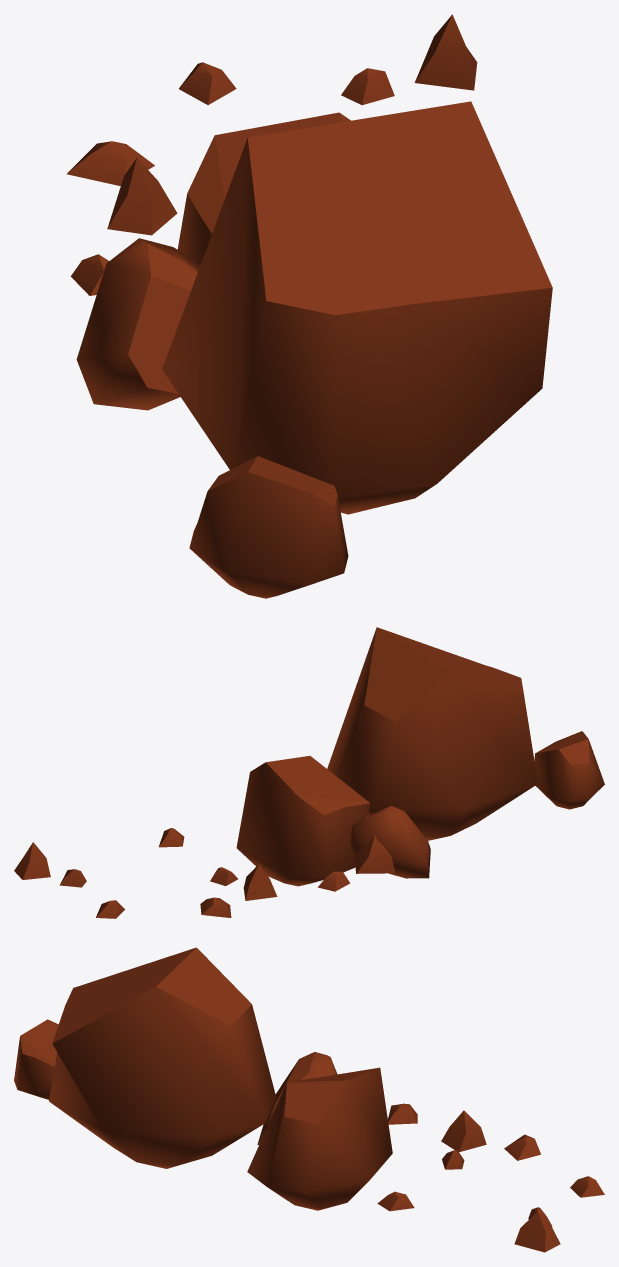
File: Rocks02.FBX
The picture shows the model from 3 angles, top to bottom: view 1: azimuth 30°, elevation 25°; view 2: azimuth 150°, elevation 25°; view 3: azimuth 270°, elevation 25°; orthographic projection. The views are drawn at different scales.
Visible parts, largest first — view 1: Sphere007, Sphere010, Sphere008, Sphere009, Pyramid051, Pyramid054, Pyramid026, Pyramid053, Pyramid055, Pyramid022; view 2: Sphere007, Sphere009, Sphere010, Sphere008, Pyramid021, Pyramid054, Pyramid051, Pyramid026, Pyramid022, Pyramid053; view 3: Sphere007, Sphere009, Sphere010, Sphere008, Pyramid051, Pyramid054, Pyramid026, Pyramid022, Pyramid053, Pyramid056.
Boxes of the visible parts, bbox=[...] form: Sphere007: bbox=[162, 101, 552, 514]; Sphere010: bbox=[189, 456, 348, 598]; Sphere008: bbox=[76, 238, 200, 410]; Sphere009: bbox=[177, 112, 350, 264]; Pyramid051: bbox=[107, 158, 177, 235]; Pyramid054: bbox=[414, 14, 477, 90]; Pyramid026: bbox=[66, 141, 154, 185]; Pyramid053: bbox=[179, 62, 236, 104]; Pyramid055: bbox=[341, 68, 394, 105]; Pyramid022: bbox=[71, 254, 108, 295]; Sphere007: bbox=[327, 627, 537, 840]; Sphere009: bbox=[236, 756, 370, 886]; Sphere010: bbox=[534, 731, 604, 809]; Sphere008: bbox=[351, 806, 430, 878]; Pyramid021: bbox=[354, 835, 395, 873]; Pyramid054: bbox=[14, 842, 50, 879]; Pyramid051: bbox=[243, 864, 277, 900]; Pyramid026: bbox=[200, 897, 231, 917]; Pyramid022: bbox=[317, 871, 350, 891]; Pyramid053: bbox=[96, 900, 124, 918]; Sphere007: bbox=[49, 947, 276, 1168]; Sphere009: bbox=[247, 1067, 392, 1210]; Sphere010: bbox=[14, 1019, 58, 1099]; Sphere008: bbox=[257, 1052, 337, 1144]; Pyramid051: bbox=[441, 1110, 486, 1152]; Pyramid054: bbox=[514, 1211, 560, 1252]; Pyramid026: bbox=[504, 1134, 540, 1160]; Pyramid022: bbox=[388, 1103, 417, 1124]; Pyramid053: bbox=[570, 1176, 604, 1197]; Pyramid056: bbox=[377, 1191, 414, 1211].
Bounding box in the file's own units: 61.94 × 33.81 × 81.54.
